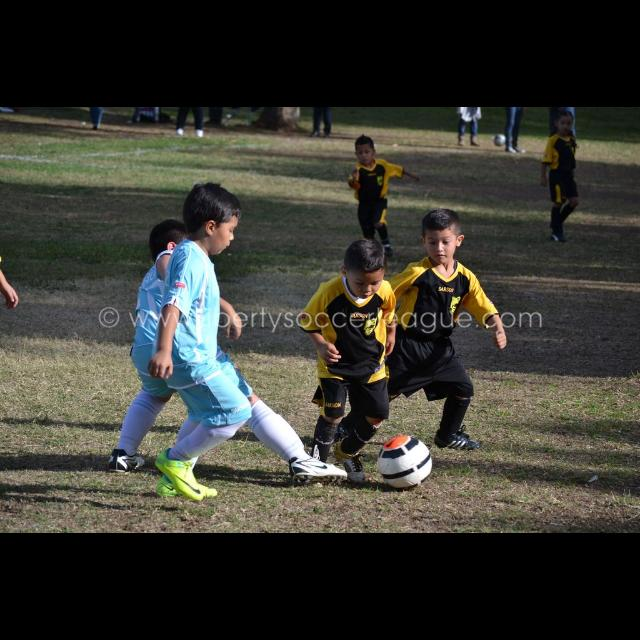Football: (373, 432, 432, 488)
